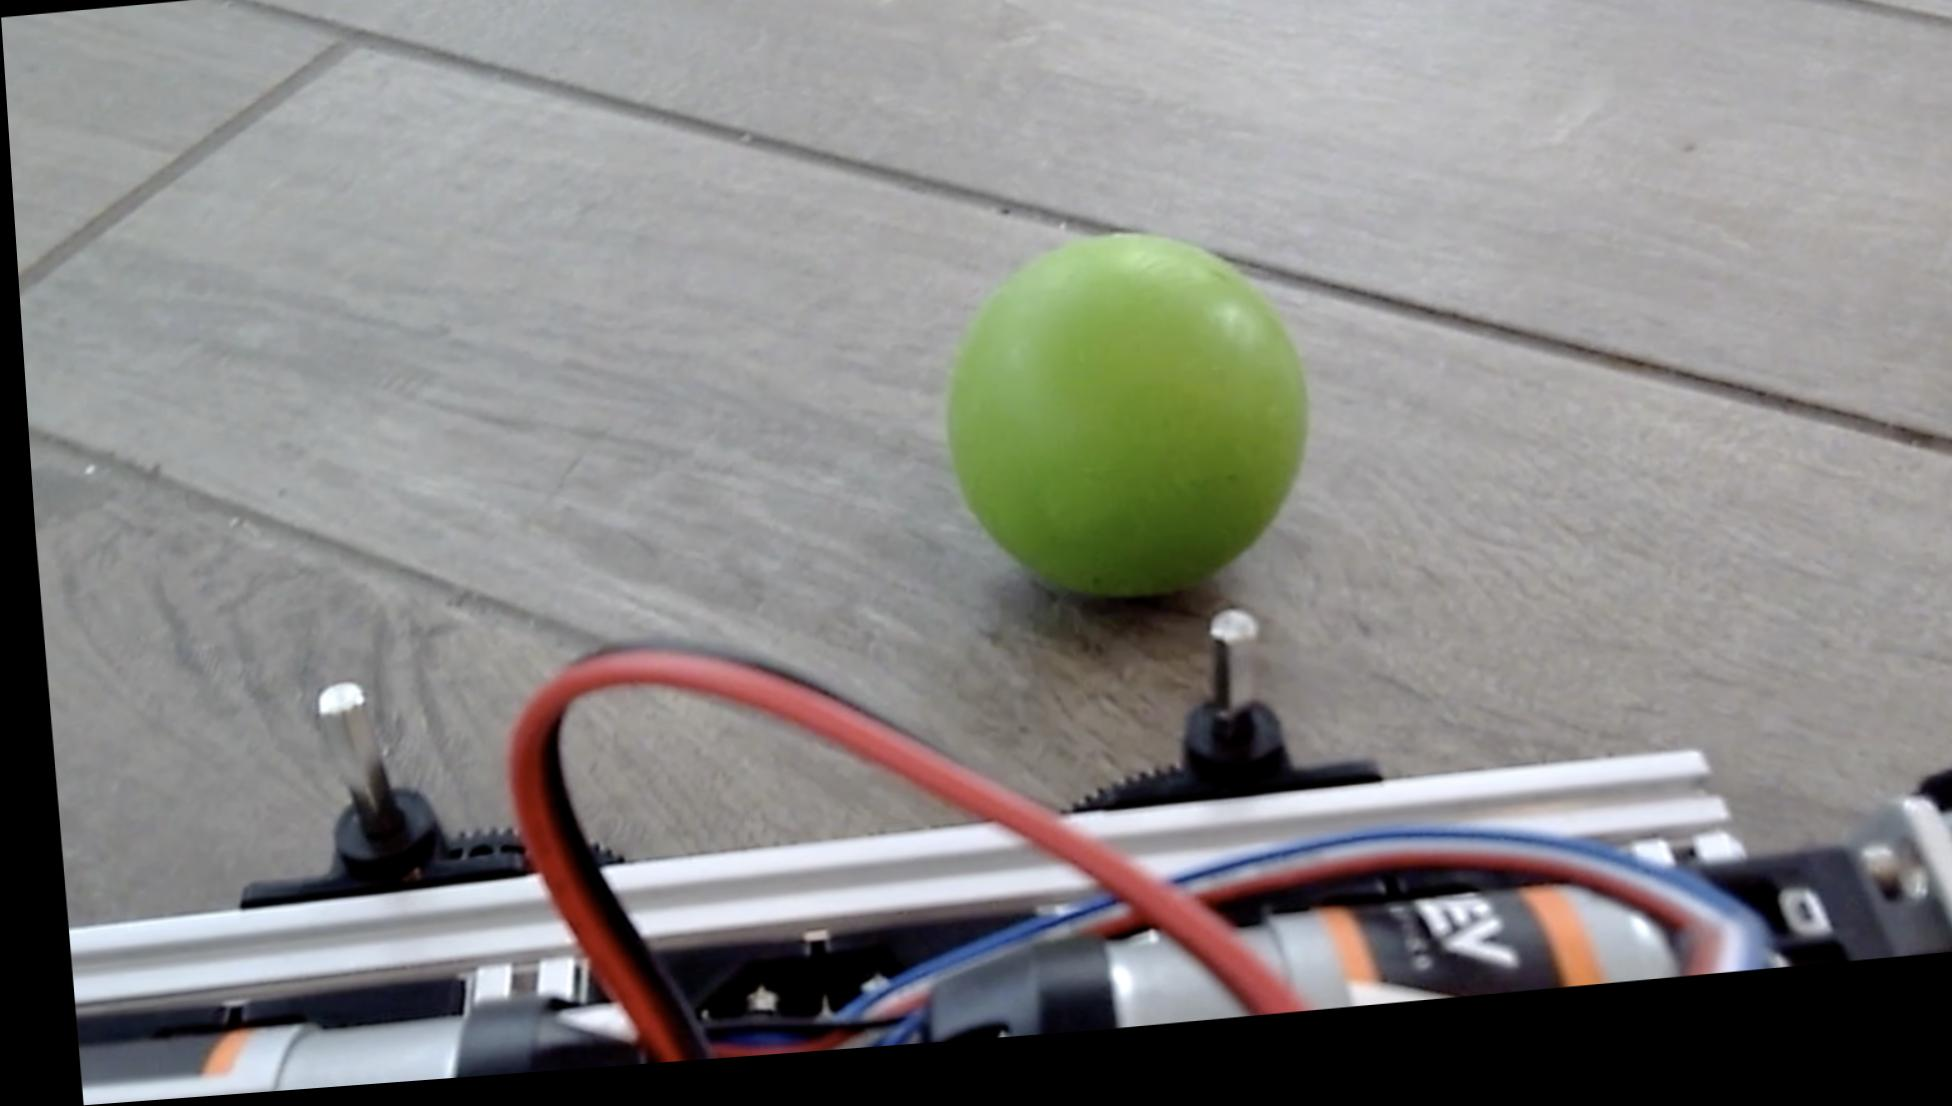greenball: (922, 232, 1317, 631)
